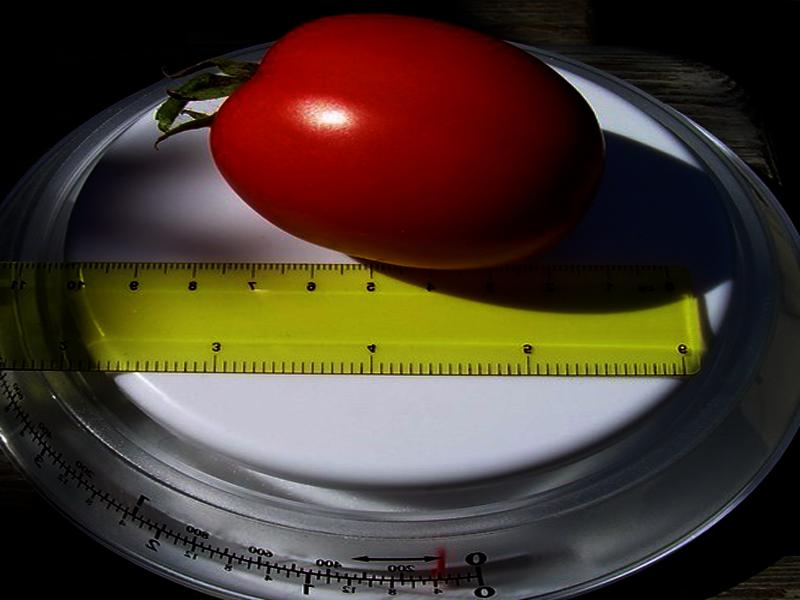Tomato: (208, 11, 601, 276)
